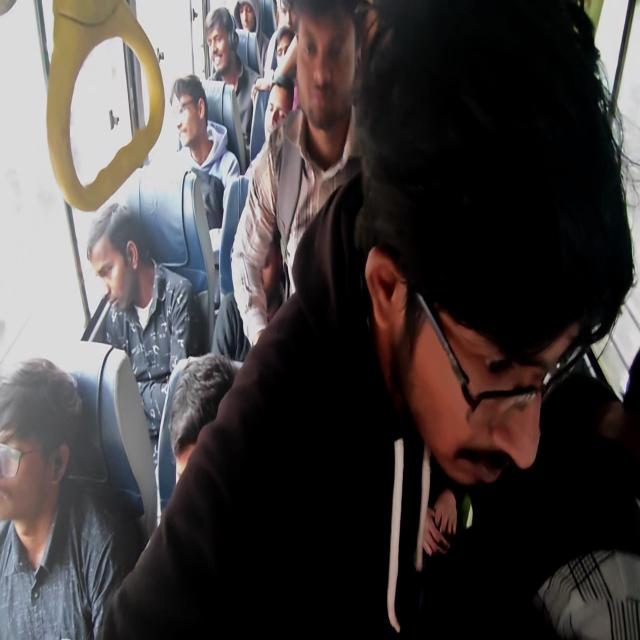person: (373, 26, 621, 503), (163, 373, 256, 561), (73, 191, 148, 326), (0, 392, 70, 528), (300, 7, 364, 121), (170, 78, 210, 171), (265, 86, 308, 164), (205, 21, 241, 79), (268, 38, 301, 76), (232, 0, 268, 29), (276, 5, 301, 35)
